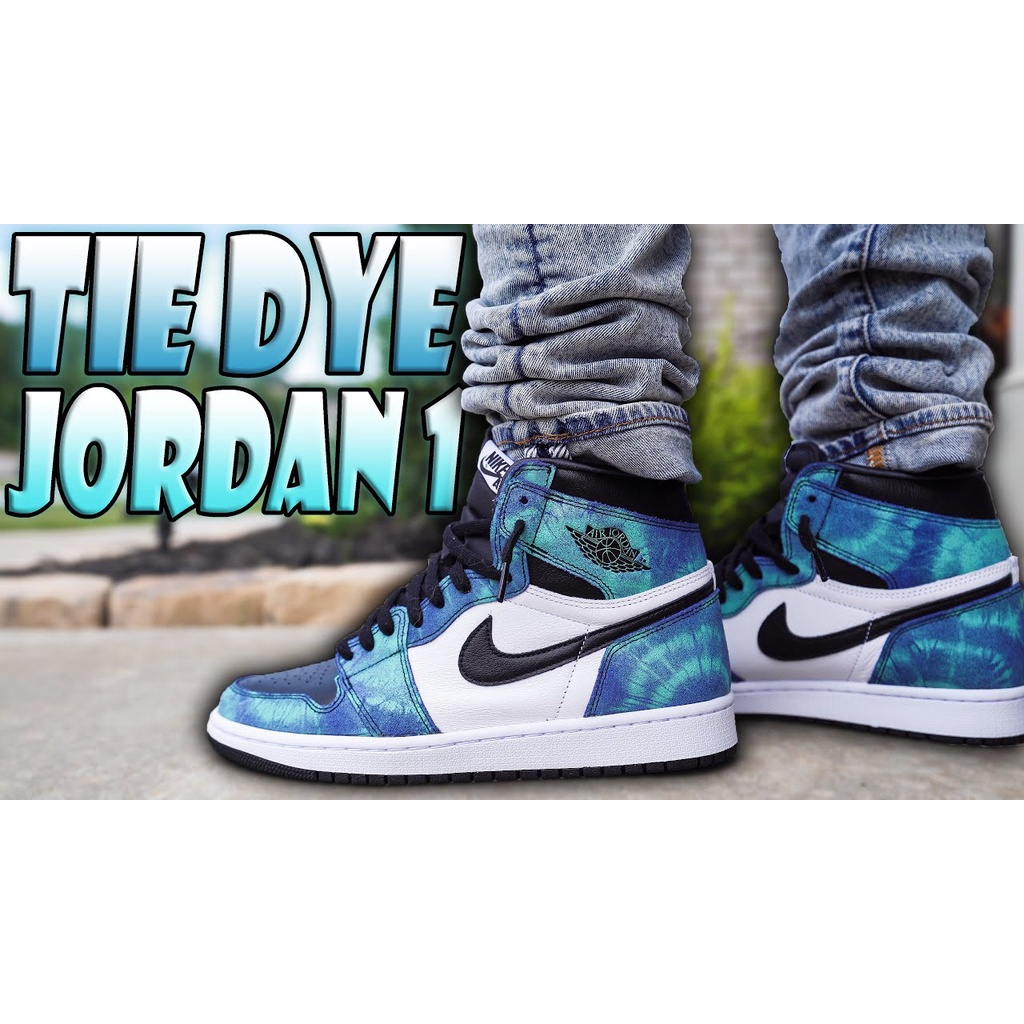sneakers: (203, 437, 742, 784), (717, 461, 1024, 741)
